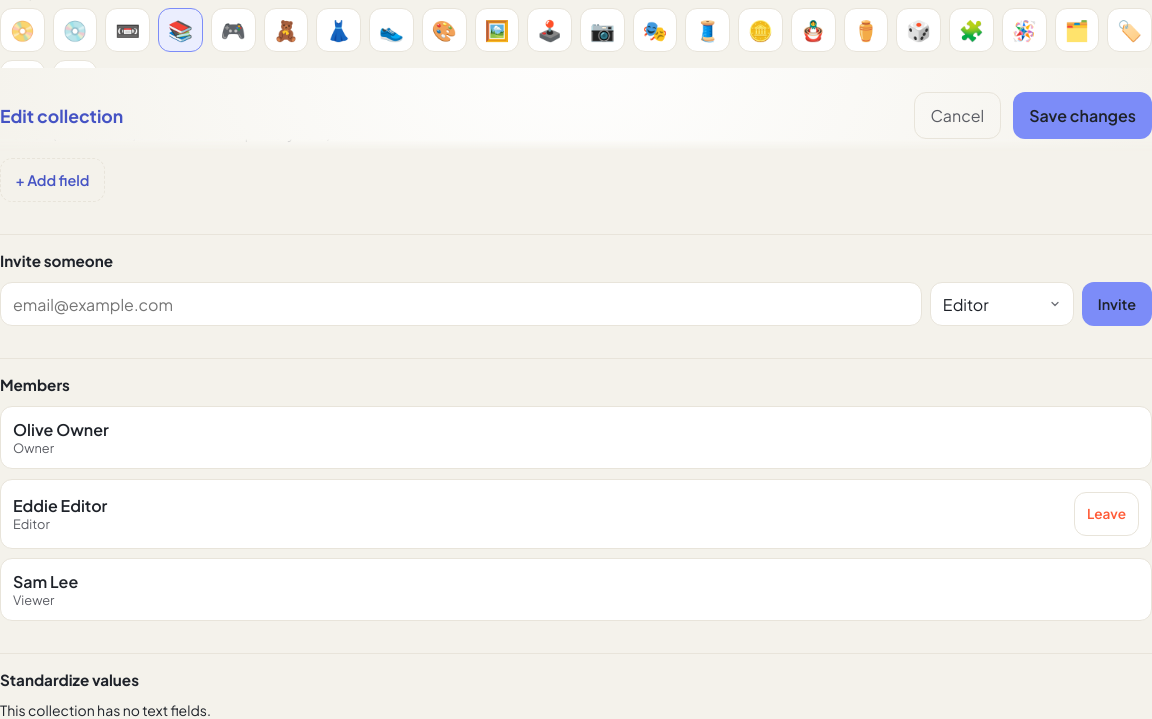
Test: Admin member removal › closes the dialog without removing when the member stays
The image size is (1152, 719).
(page scrolled)
Click the button "Leave" at (1106, 514), box 1074,492 -> 1139,536
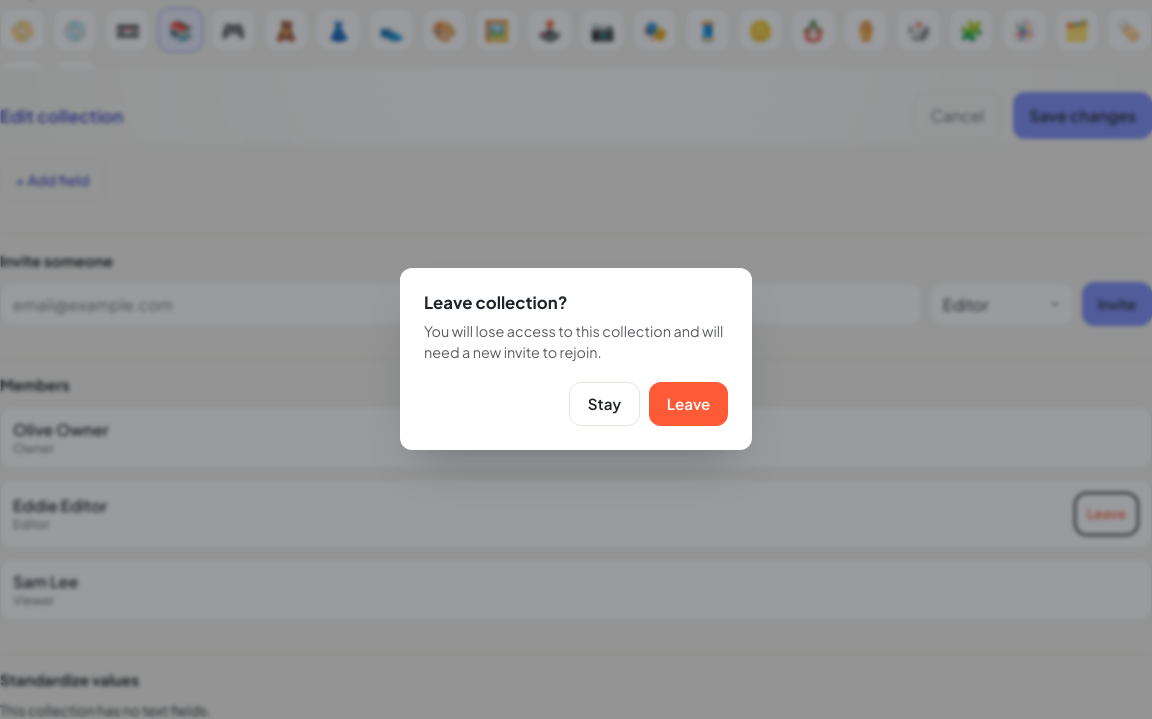
Click the button "Stay" at (604, 404), box 569,382 -> 640,426
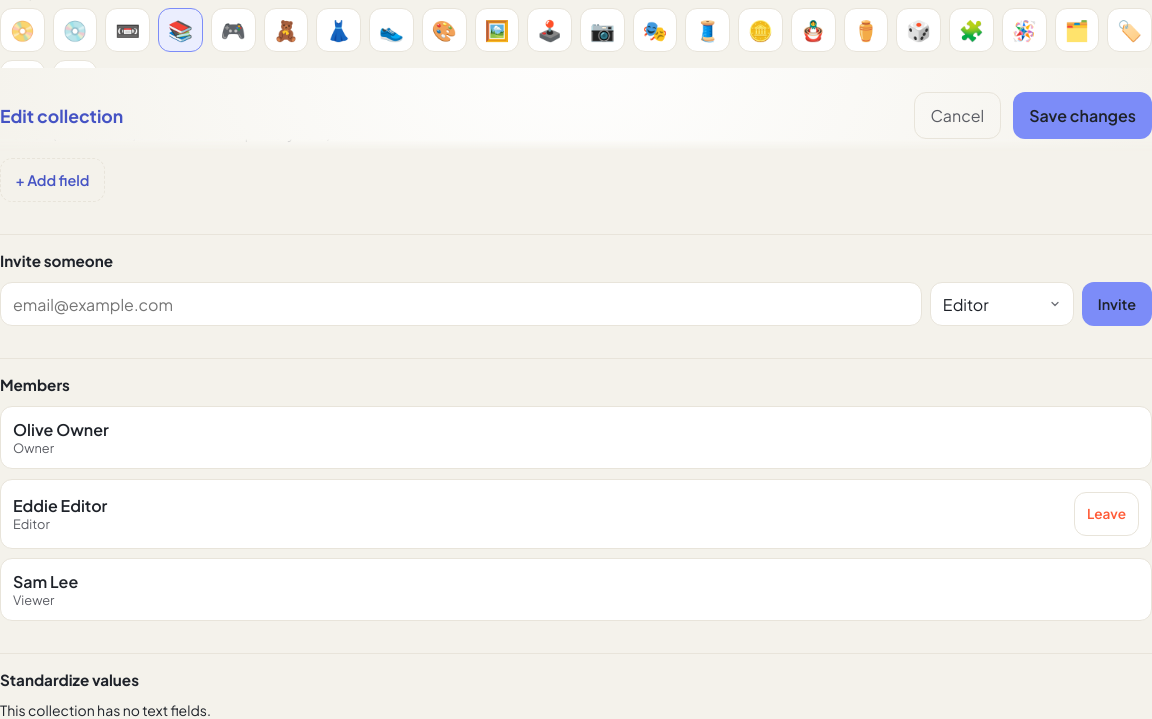
Now the dialog is gone
